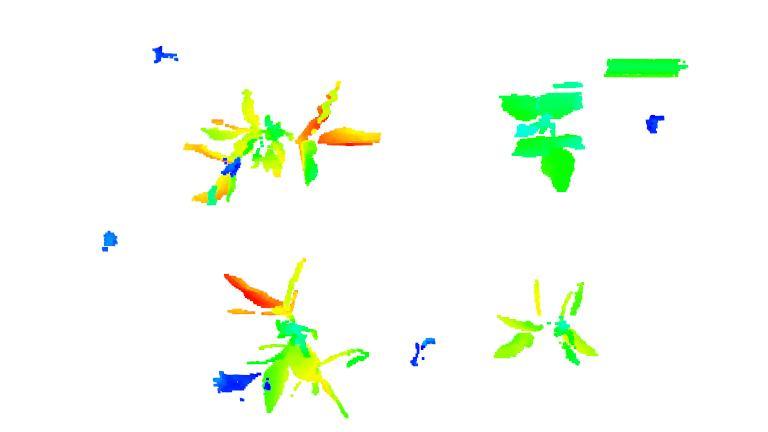mungbean: (180, 79, 392, 210), (211, 255, 356, 419), (496, 76, 594, 191), (493, 270, 604, 368)
